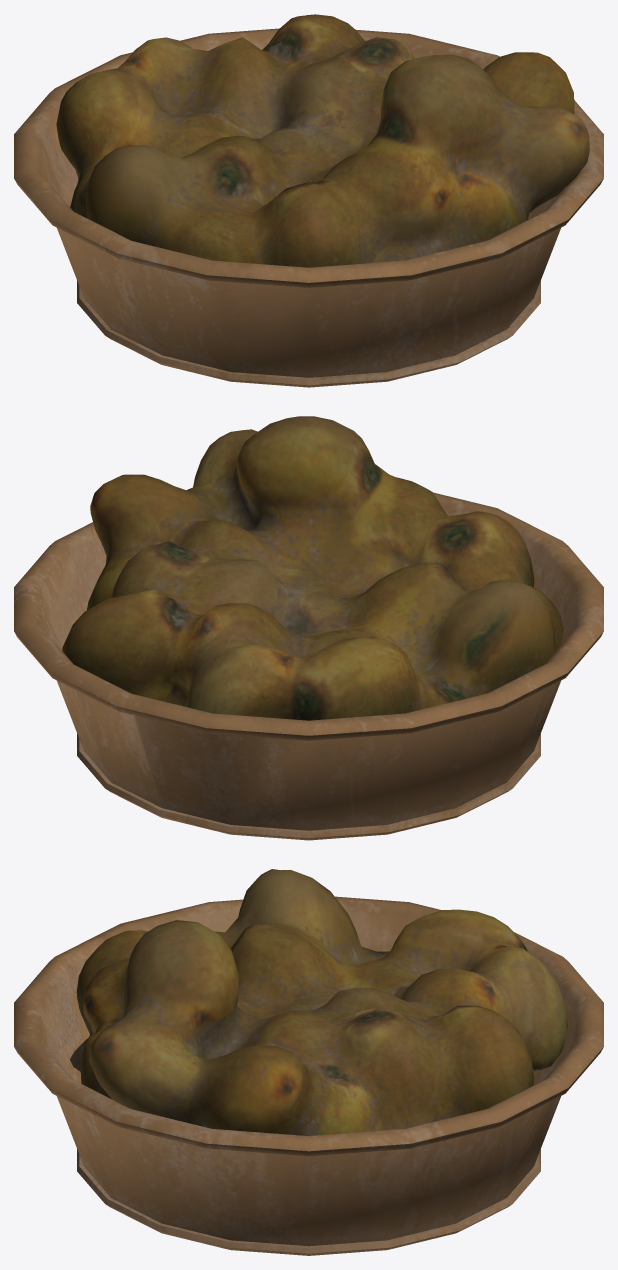
Rendered from G_B_Kiwi.FBX.
3 renders of one model, top to bottom at view 1: azimuth 30°, elevation 25°; view 2: azimuth 150°, elevation 25°; view 3: azimuth 270°, elevation 25°, orthographic.
Parts seen in each view (by area): view 1: kiwi_basket001; view 2: kiwi_basket001; view 3: kiwi_basket001.
Part boxes in pixels (box(x1,y1,x2,y2)): kiwi_basket001: box(14, 14, 603, 387); kiwi_basket001: box(14, 416, 603, 840); kiwi_basket001: box(14, 869, 603, 1255).
Bounding box in the file's own units: 36.03 × 17.34 × 35.49.
1 material, 1 textured.
